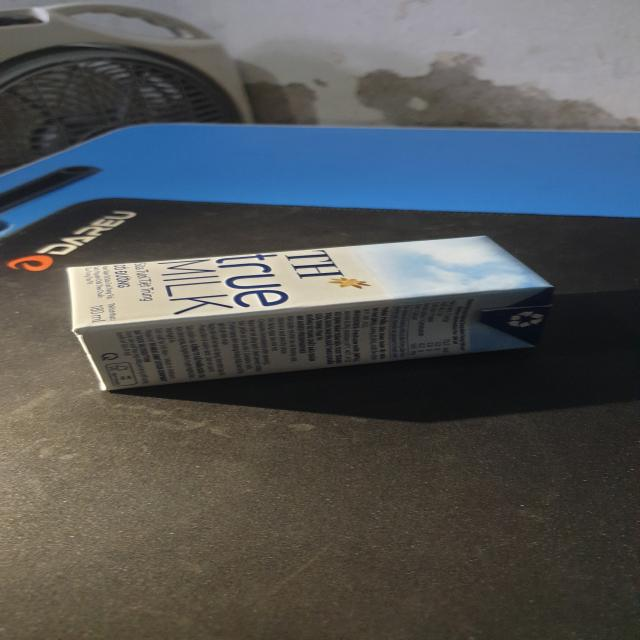TH: (70, 235, 553, 393)
